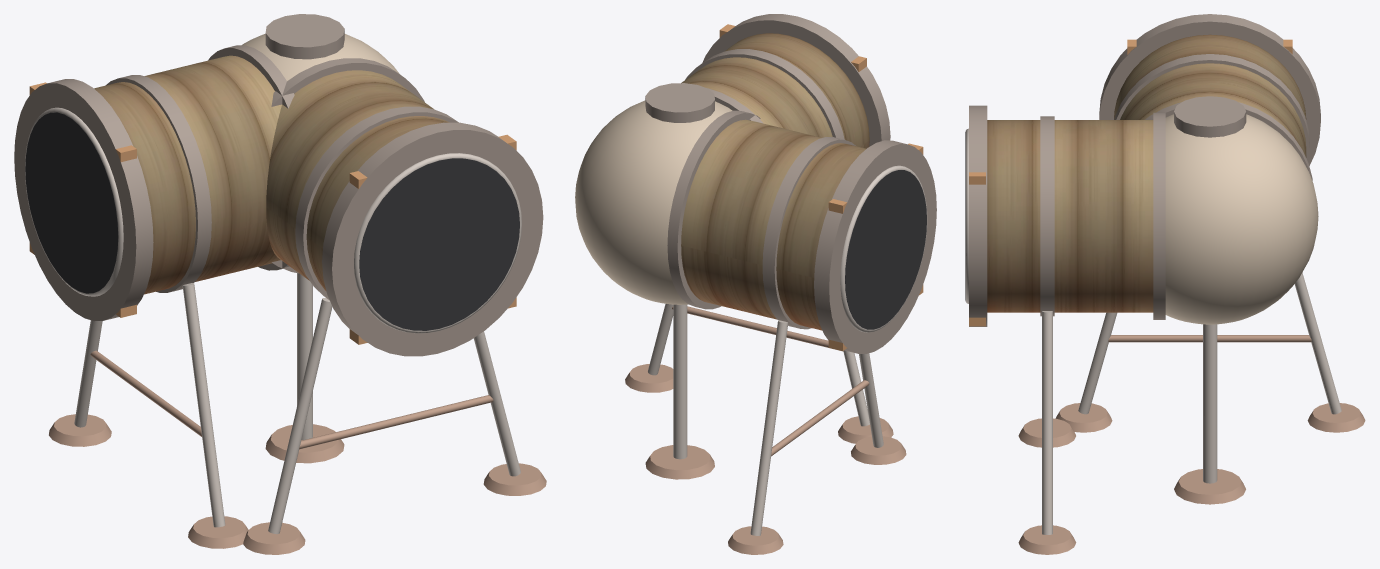
File: W05_tunnel_bend90.glb
3 views of the same model, side by side, from view 1: azimuth 30°, elevation 25°; view 2: azimuth 150°, elevation 25°; view 3: azimuth 270°, elevation 25° (orthographic). The views are drawn at different scales.
Parts seen in each view (by area): view 1: docking_flange, tube, opening, seal, footpad; view 2: tube, opening, docking_flange, seal, footpad; view 3: tube, opening, docking_flange, seal, footpad.
Boxes of the visible parts, bbox=[...] form: docking_flange: bbox=[14, 14, 543, 356]; tube: bbox=[94, 55, 449, 294]; opening: bbox=[25, 33, 519, 344]; seal: bbox=[25, 107, 521, 534]; footpad: bbox=[49, 350, 546, 554]; tube: bbox=[681, 33, 869, 330]; opening: bbox=[575, 24, 926, 351]; docking_flange: bbox=[645, 14, 936, 353]; seal: bbox=[648, 165, 927, 535]; footpad: bbox=[625, 306, 906, 554]; tube: bbox=[987, 34, 1306, 312]; opening: bbox=[965, 39, 1318, 326]; docking_flange: bbox=[969, 14, 1320, 326]; seal: bbox=[965, 128, 1341, 534]; footpad: bbox=[1018, 335, 1365, 554].
Size of the model in its own units: 3.32 by 3.46 by 3.32.
5 materials, 1 textured.
